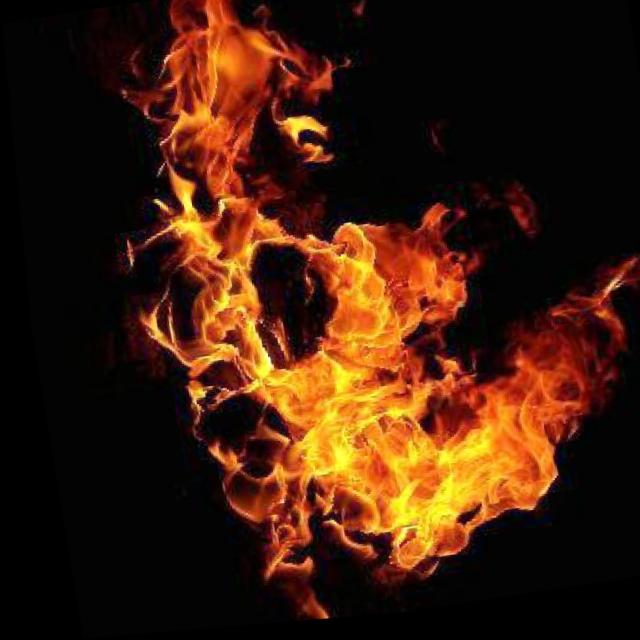Fire: (94, 0, 631, 634)
